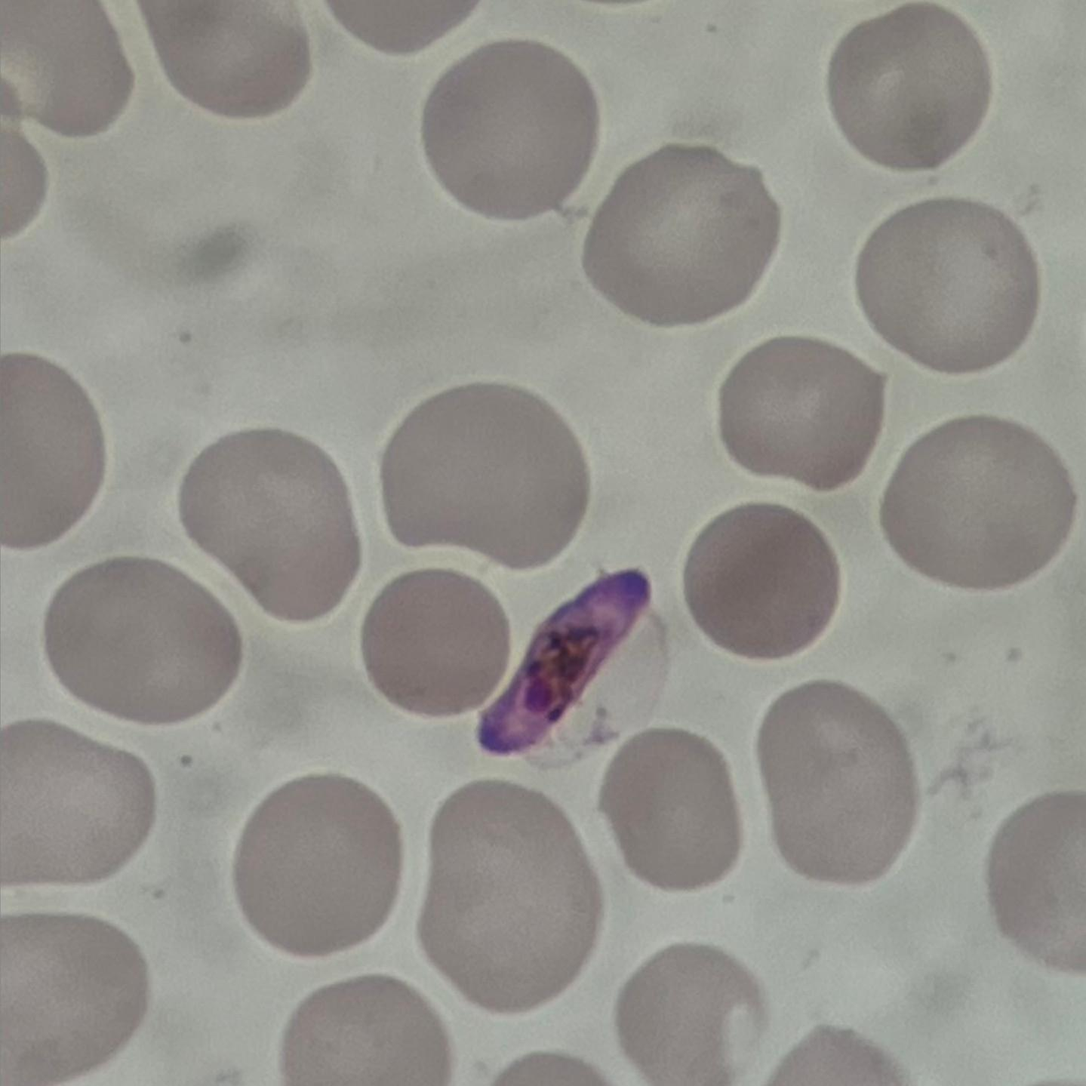Infected: (479, 566, 671, 771)
Uninfected: (419, 780, 600, 1018), (379, 383, 592, 567), (577, 140, 775, 329), (177, 427, 365, 624), (879, 417, 1077, 590), (42, 557, 245, 724), (757, 678, 917, 887), (425, 36, 600, 222), (857, 195, 1036, 376), (230, 770, 398, 956), (826, 0, 992, 172), (0, 721, 159, 887), (679, 500, 841, 662), (0, 906, 152, 1077), (721, 334, 887, 490), (600, 729, 740, 890), (360, 568, 511, 713), (617, 942, 768, 1086), (132, 0, 313, 119), (279, 972, 454, 1086), (0, 0, 135, 139), (985, 789, 1086, 973)
